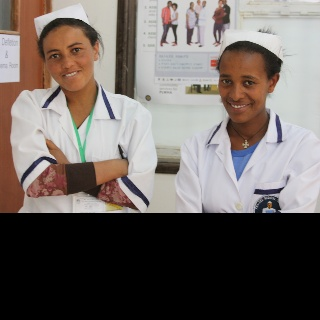without_mask: (37, 17, 99, 91), (217, 50, 279, 124), (167, 1, 171, 8)
